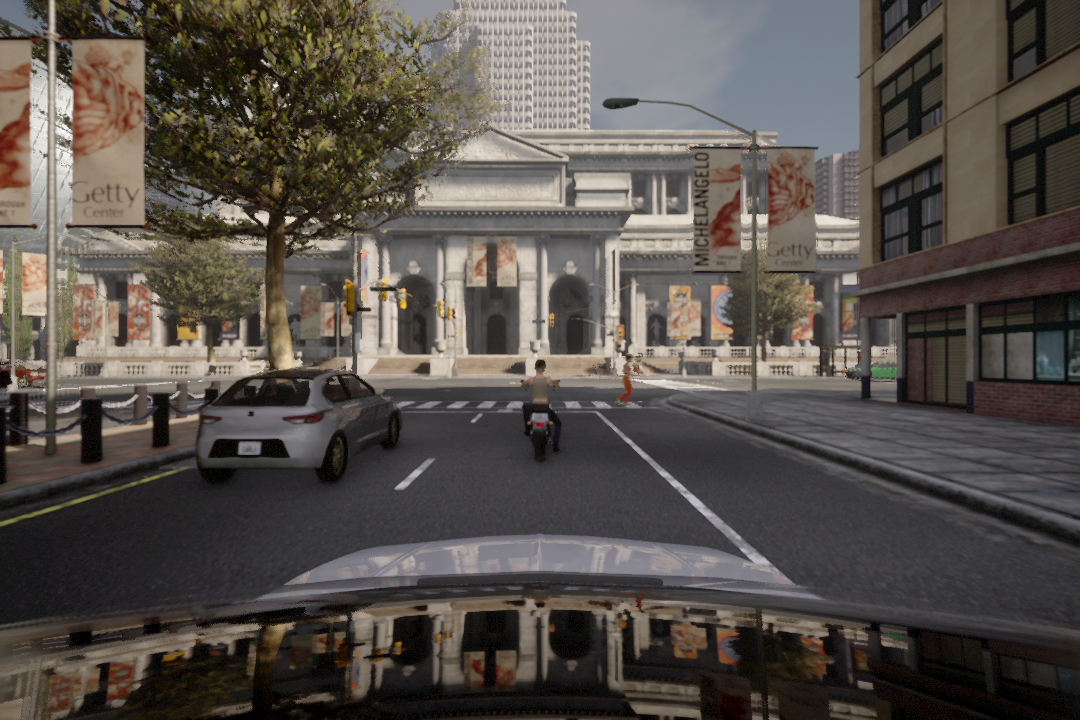walkside: (388, 397, 674, 414)
